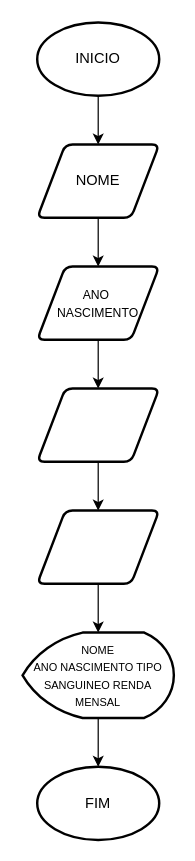
The diagram is 195 pixels wide and 861 high, and some of its shapes have lost their labels. The shapes that lost their labels are listed below. From the top down, each one's box as (x1, y1, x2, y2) in pixels, then its label:
(35, 387, 160, 462): TIPO SANGUINEO
(35, 509, 160, 584): RENDA MENSAL
